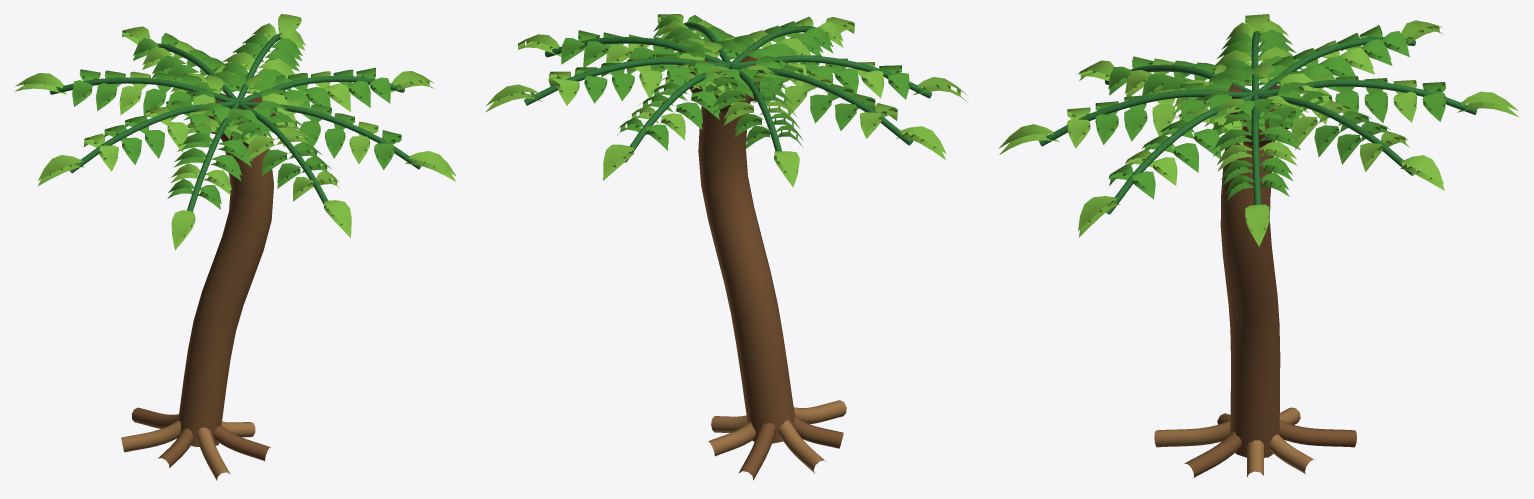
Rendered from tree-palm.glb.
3 renders of one model, left to right at view 1: azimuth 30°, elevation 25°; view 2: azimuth 150°, elevation 25°; view 3: azimuth 270°, elevation 25°, orthographic. The views are drawn at different scales.
Parts seen in each view (by area): view 1: PalmCanopy, PalmRoots_SculptedBarkLight_0, PalmRoots_SculptedBark_1; view 2: PalmCanopy, PalmRoots_SculptedBarkLight_0, PalmRoots_SculptedBark_1; view 3: PalmCanopy, PalmRoots_SculptedBarkLight_0, PalmRoots_SculptedBark_1.
Part boxes in pixels (bbox=[...]): PalmCanopy: bbox=[15, 14, 456, 446]; PalmRoots_SculptedBarkLight_0: bbox=[121, 420, 255, 480]; PalmRoots_SculptedBark_1: bbox=[131, 407, 270, 467]; PalmCanopy: bbox=[485, 14, 968, 443]; PalmRoots_SculptedBarkLight_0: bbox=[708, 400, 846, 473]; PalmRoots_SculptedBark_1: bbox=[739, 416, 843, 480]; PalmCanopy: bbox=[998, 14, 1519, 457]; PalmRoots_SculptedBarkLight_0: bbox=[1154, 407, 1314, 477]; PalmRoots_SculptedBark_1: bbox=[1184, 413, 1356, 478].
Size of the model in its own units: 2.68 by 2.26 by 2.67.
